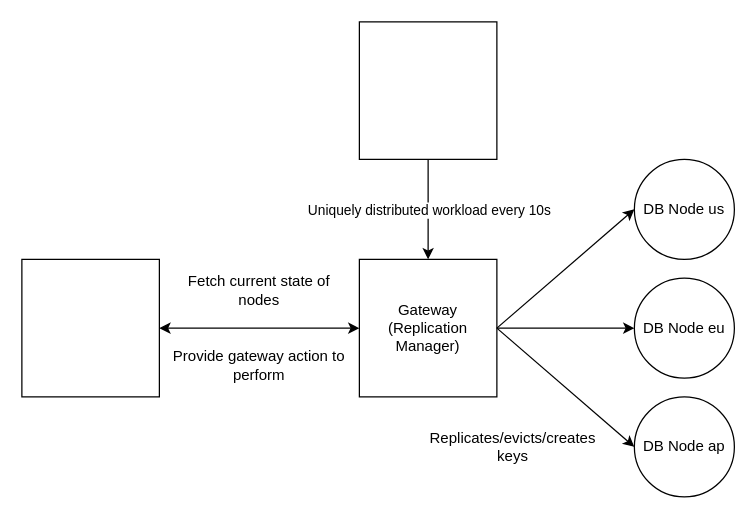
Some shapes in this 756 by 531 pixel diagram are drawn without their labels. Each missing label, with the centre of its shape:
"Reinforcement Learning Agent" belongs at pixel 90 327.
"Workload Generator" belongs at pixel 427 90.
